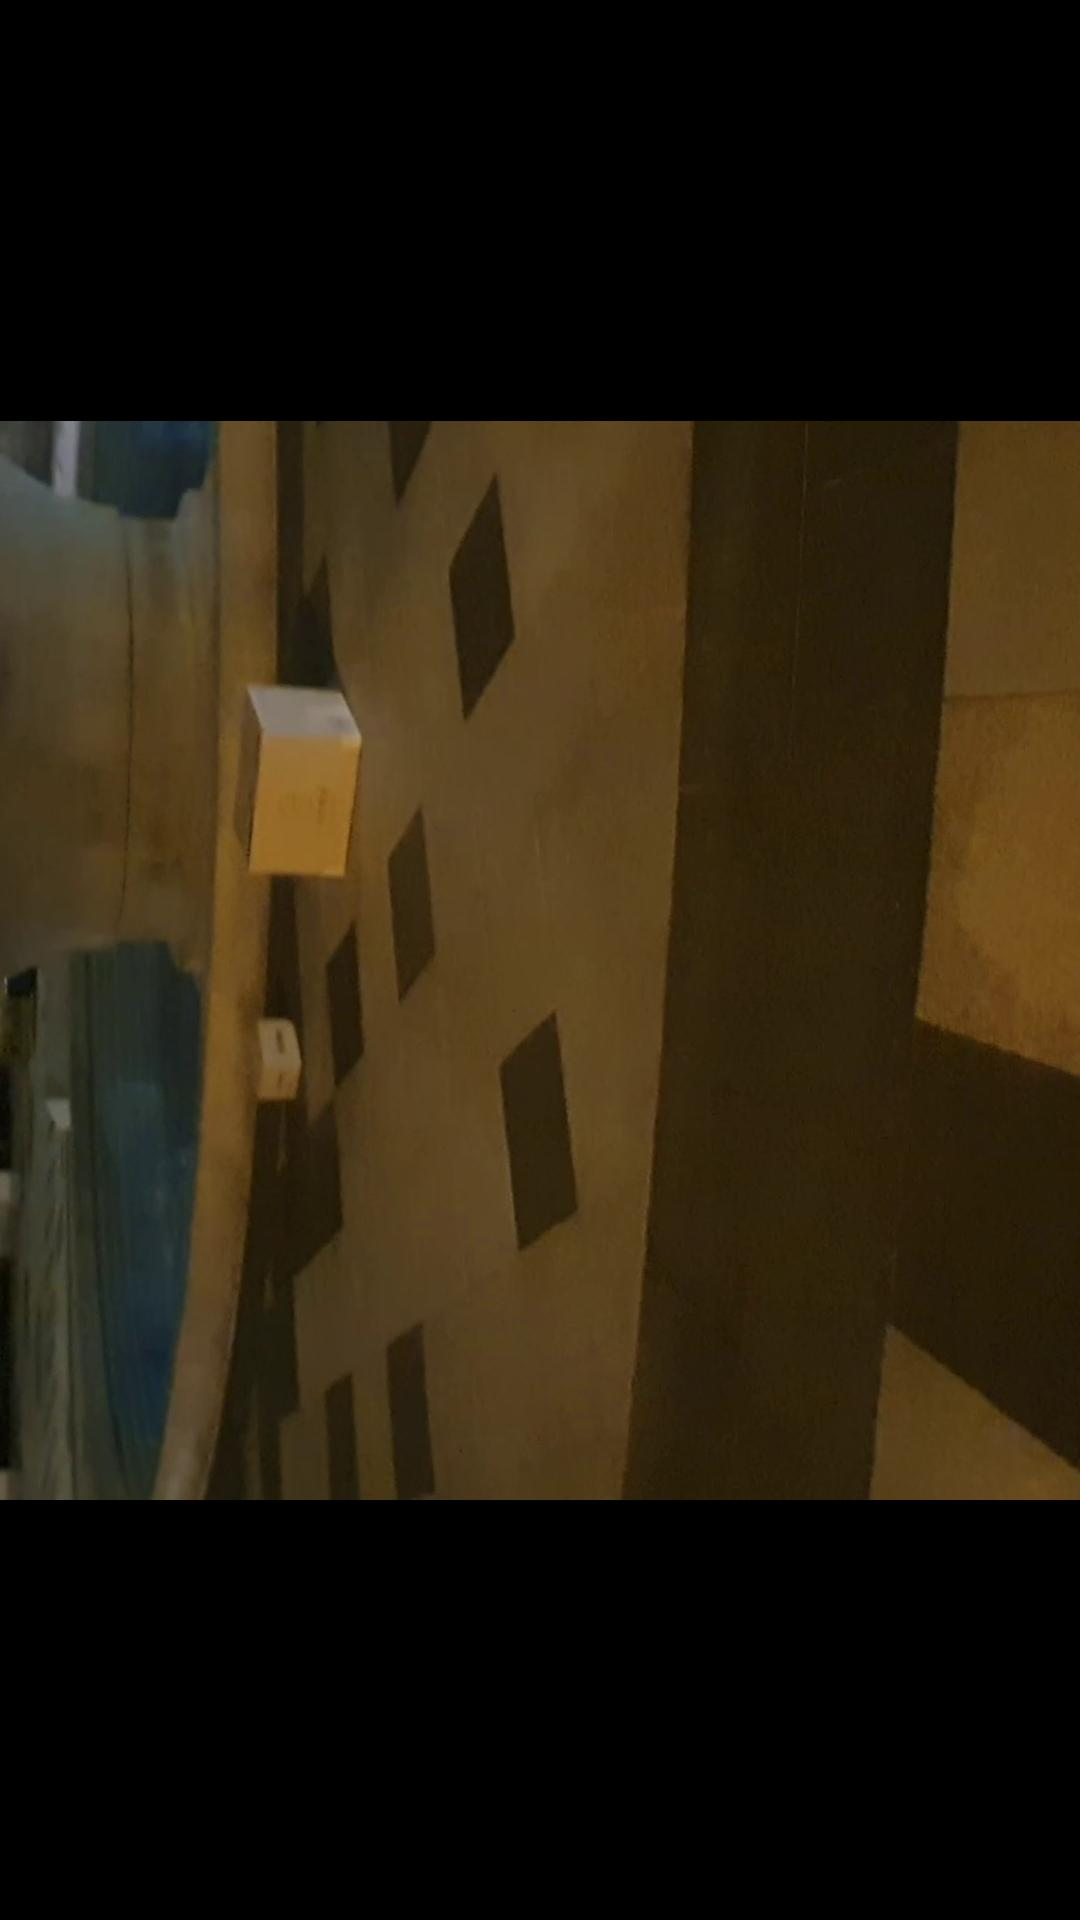Box: (225, 663, 375, 889), (235, 1018, 302, 1117)
